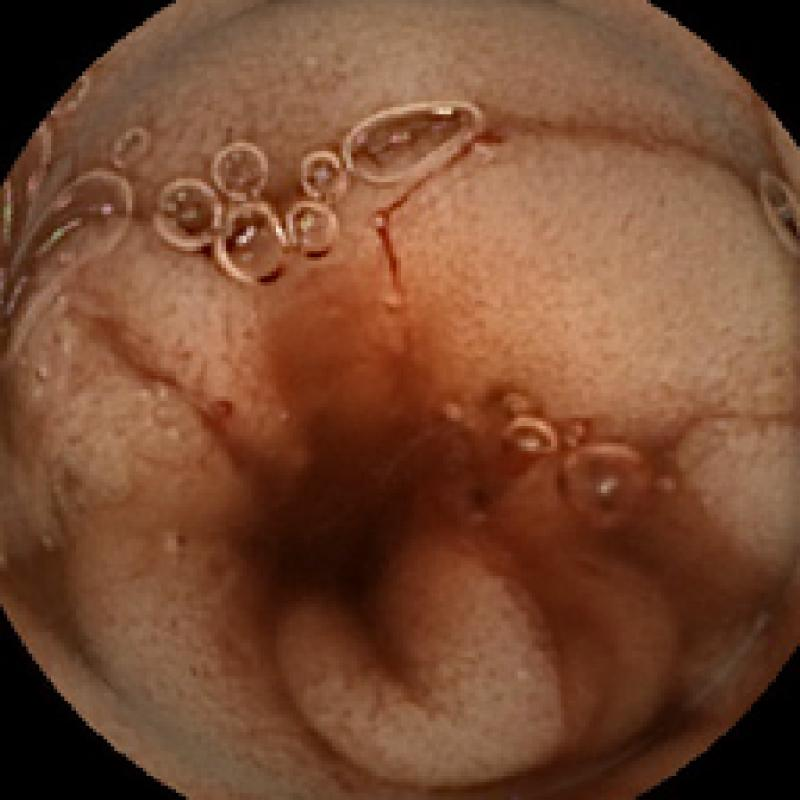bleeding: (361, 122, 500, 314)
